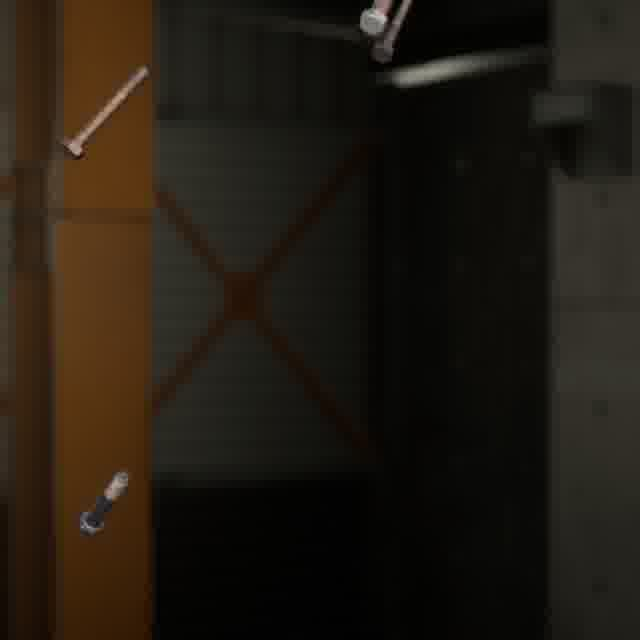bolt: (54, 62, 154, 166), (72, 465, 134, 542), (368, 0, 417, 67), (355, 0, 399, 40)
